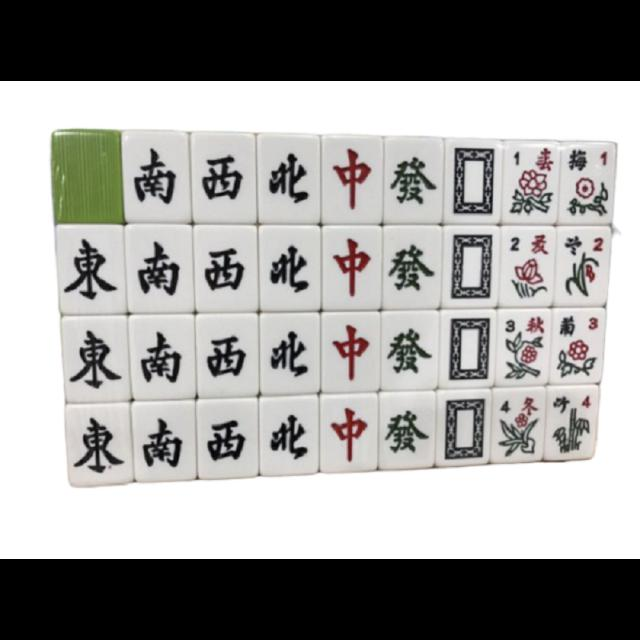dg: (385, 138, 443, 220), (383, 227, 441, 307), (382, 312, 438, 388), (379, 394, 435, 468)
dr: (322, 137, 382, 221), (323, 226, 381, 308), (322, 313, 380, 391), (321, 395, 377, 471)
dw: (445, 140, 501, 222), (443, 227, 499, 306), (440, 310, 496, 386), (438, 391, 490, 464)
f1: (560, 142, 618, 176)
f2: (557, 228, 611, 258)
f3: (554, 312, 604, 336)
f4: (548, 388, 598, 414)
s1: (503, 140, 559, 173)
s2: (502, 226, 554, 260)
s3: (496, 312, 552, 336)
s4: (494, 387, 544, 417)
we: (58, 225, 124, 312), (62, 316, 126, 400), (66, 404, 130, 484)
wn: (257, 135, 319, 219), (260, 226, 320, 308), (260, 315, 320, 391), (260, 397, 318, 473)
ws: (123, 131, 193, 219), (128, 226, 192, 310), (130, 316, 194, 398), (133, 403, 195, 477)
ww: (192, 133, 255, 221), (195, 226, 258, 310), (198, 315, 258, 395), (198, 400, 258, 478)
